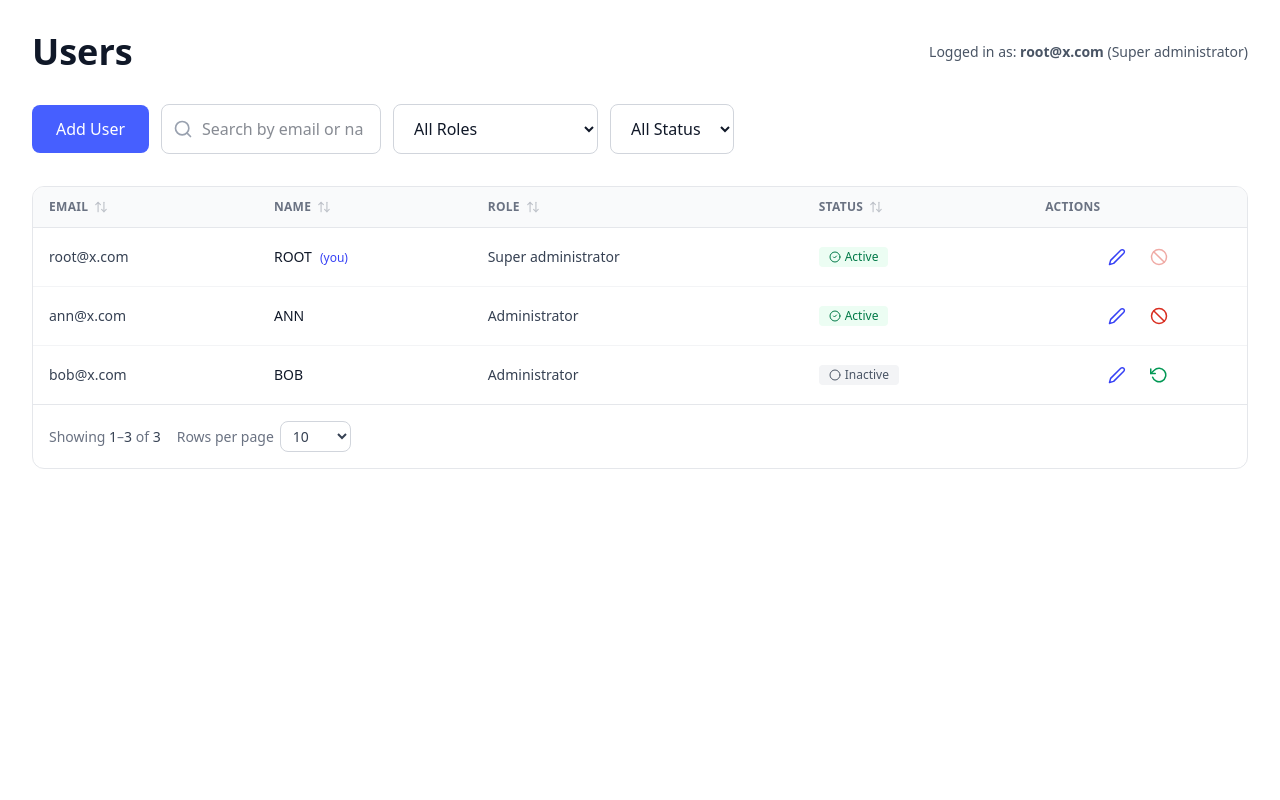
it: Users › locks role and status when editing yourself, and explains why
This screenshot has width=1280, height=800.
Click the button named "Edit ROOT".
click(1117, 257)  # box [1100, 240, 1134, 274]
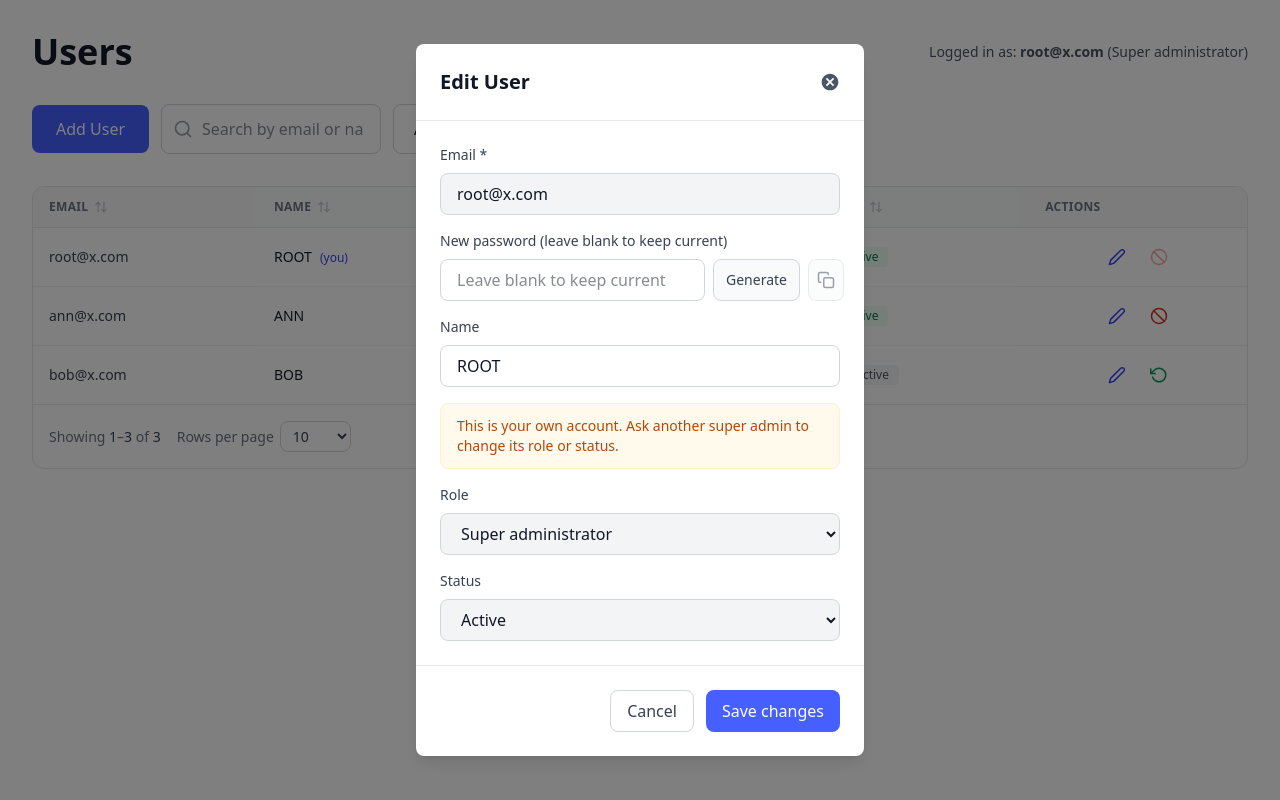
Expected: the text "your own account" is shown, [457, 416, 809, 455]
Expected: the dropdown labelled "Role" is disabled, [440, 513, 840, 555]
Expected: the dropdown labelled "Status" is disabled, [440, 599, 840, 641]
